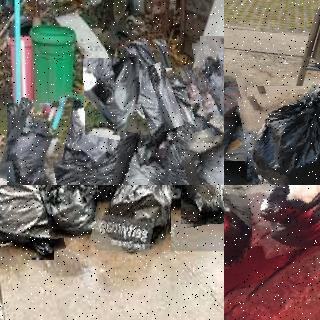Garbage: (115, 32, 185, 166), (147, 65, 223, 185), (38, 94, 135, 185), (242, 81, 320, 185), (93, 185, 175, 255), (1, 100, 64, 185), (247, 185, 320, 252), (0, 185, 60, 264), (84, 58, 141, 135), (109, 132, 178, 185), (195, 33, 224, 149), (224, 70, 259, 166), (41, 185, 102, 237), (224, 185, 255, 267), (178, 185, 224, 226), (191, 133, 224, 185), (22, 160, 84, 185)
